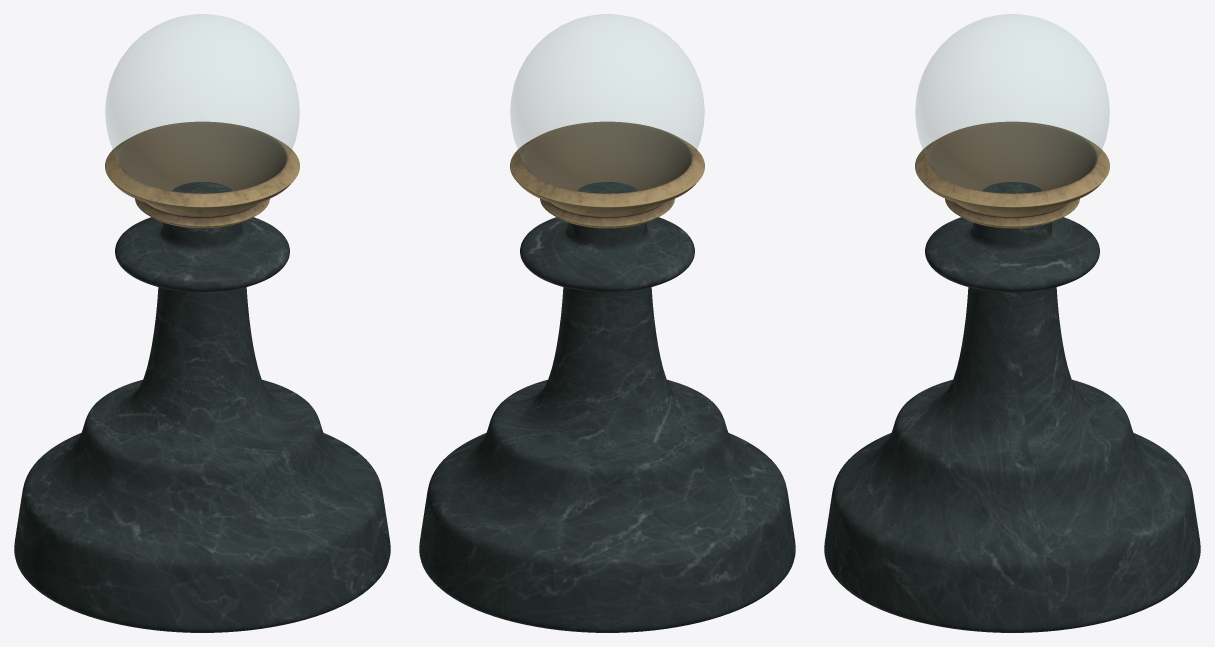
Rendered from B_Pawn.glb.
3 views of the same model, side by side, from view 1: azimuth 30°, elevation 25°; view 2: azimuth 150°, elevation 25°; view 3: azimuth 270°, elevation 25° (orthographic).
Visible parts, largest first — view 1: Pawn_Body_B1, Pawn_Top_B1; view 2: Pawn_Body_B1, Pawn_Top_B1; view 3: Pawn_Body_B1, Pawn_Top_B1.
Part boxes in pixels (<box>): Pawn_Body_B1: <box>14,121,390,632</box>; Pawn_Top_B1: <box>105,14,299,193</box>; Pawn_Body_B1: <box>419,121,795,632</box>; Pawn_Top_B1: <box>510,14,704,193</box>; Pawn_Body_B1: <box>824,121,1200,632</box>; Pawn_Top_B1: <box>915,14,1109,193</box>.
Bounding box in the file's own units: 0.0421 × 0.0664 × 0.0421.
2 materials, 1 textured.
